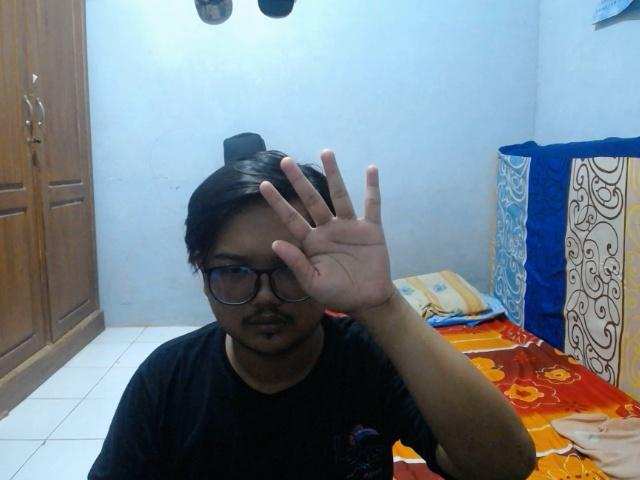Release: (256, 144, 401, 320)
